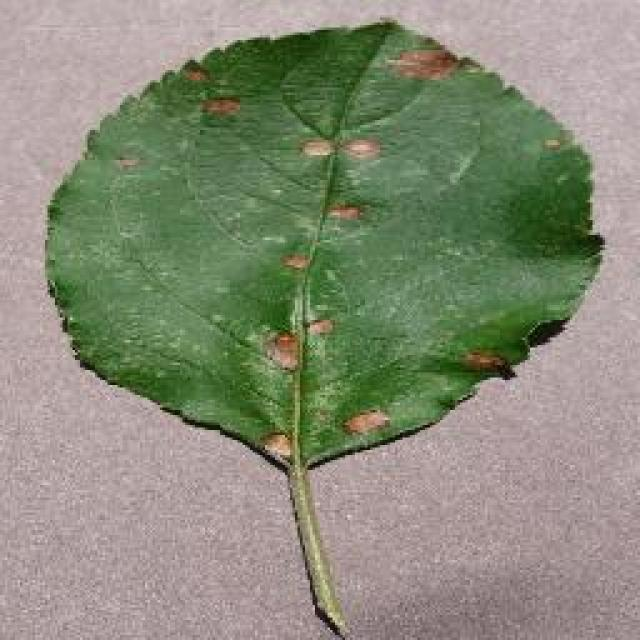black_rot: (392, 36, 488, 91), (244, 322, 350, 371), (173, 52, 243, 126), (294, 116, 386, 168), (310, 182, 378, 232), (264, 234, 319, 283), (341, 401, 396, 450), (262, 422, 301, 461)
